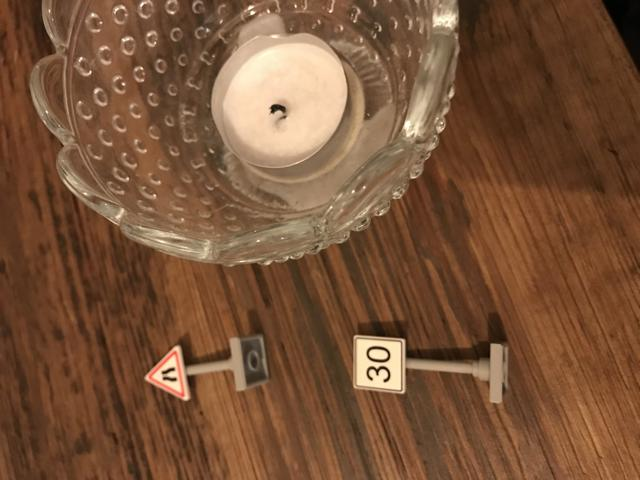tempolimit 30: (351, 333, 406, 394)
verengte fahrbahn: (144, 346, 190, 406)
